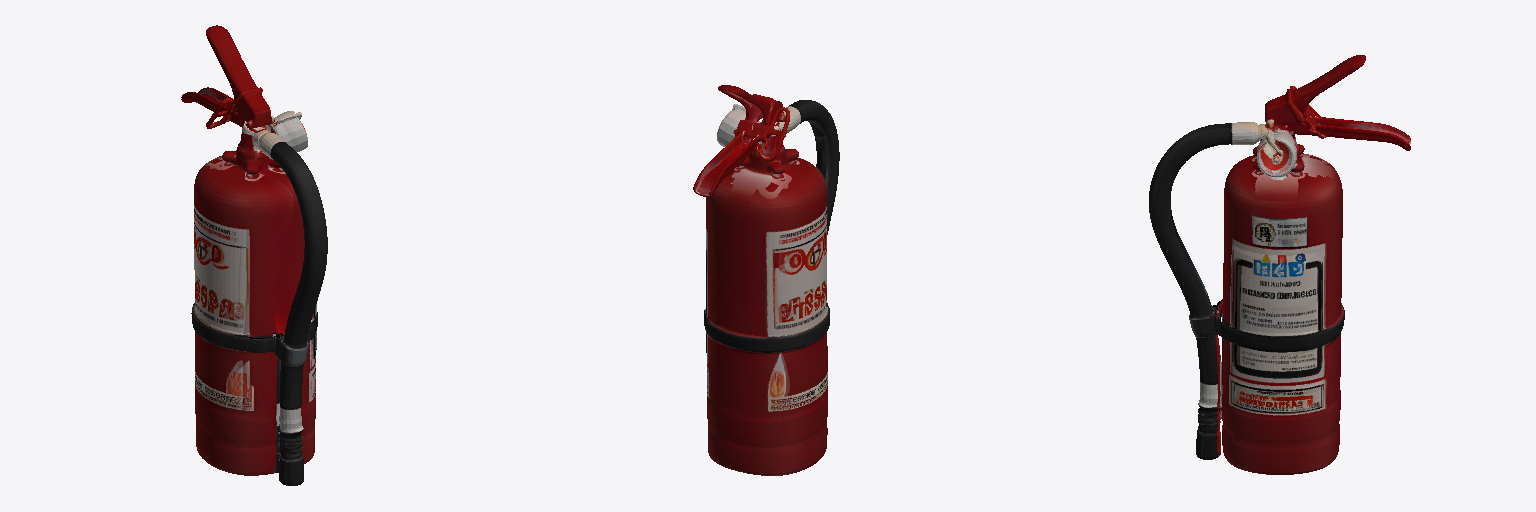
3 views of the same model, side by side, from view 1: azimuth 30°, elevation 25°; view 2: azimuth 150°, elevation 25°; view 3: azimuth 270°, elevation 25° (orthographic).
Parts seen in each view (by area): view 1: tripo_node_fb658b0f-18cd-4d43-85c5-f429cbec0916; view 2: tripo_node_fb658b0f-18cd-4d43-85c5-f429cbec0916; view 3: tripo_node_fb658b0f-18cd-4d43-85c5-f429cbec0916.
Boxes of the visible parts, <box> form: tripo_node_fb658b0f-18cd-4d43-85c5-f429cbec0916: <box>181,25,327,485</box>; tripo_node_fb658b0f-18cd-4d43-85c5-f429cbec0916: <box>693,85,839,475</box>; tripo_node_fb658b0f-18cd-4d43-85c5-f429cbec0916: <box>1149,55,1410,474</box>.
Size of the model in its own units: 0.2827 by 0.9996 by 0.5964.
1 materials, 1 textured.